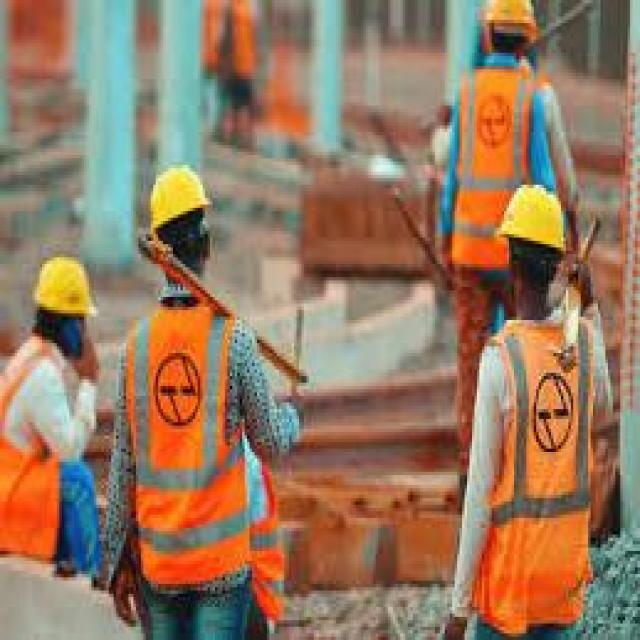Reflective-Jacket: (457, 300, 606, 624), (118, 300, 267, 597), (427, 59, 571, 287), (0, 343, 94, 551)
Safety-Helmet: (486, 175, 586, 277), (134, 155, 222, 251), (24, 244, 104, 330), (464, 0, 554, 56)
